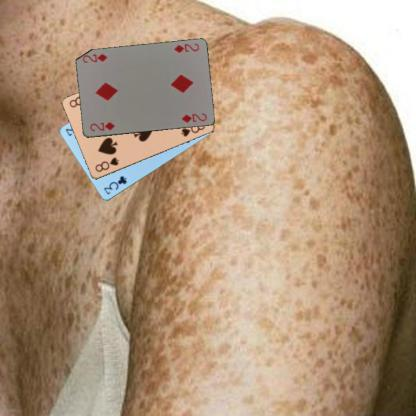2d: (87, 119, 116, 133), (172, 41, 200, 54)
3c: (101, 173, 128, 196)
8s: (93, 155, 120, 173)
